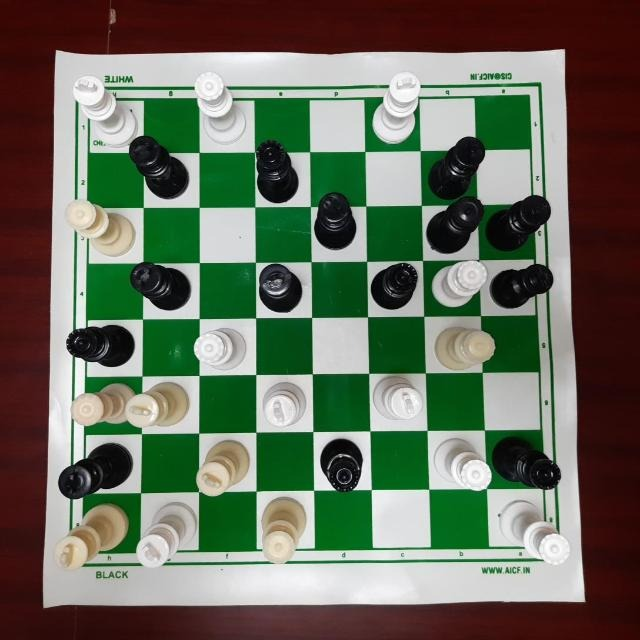black-king: (55, 438, 136, 503), (125, 134, 196, 206), (422, 135, 488, 201), (489, 191, 553, 252), (125, 261, 197, 311), (490, 261, 556, 313), (311, 191, 363, 256), (252, 260, 309, 318)
black-queen: (421, 193, 491, 255), (493, 436, 568, 493), (58, 321, 135, 371), (250, 139, 306, 206), (313, 436, 373, 496), (369, 258, 423, 316)
white-king: (56, 495, 134, 579), (131, 497, 196, 578), (65, 76, 136, 144), (367, 69, 422, 152), (195, 434, 252, 505), (256, 372, 321, 433), (365, 374, 427, 429), (122, 383, 190, 433)
white-queen: (492, 499, 574, 569), (185, 68, 251, 149), (57, 196, 140, 258), (260, 490, 315, 571), (427, 314, 501, 372), (426, 435, 495, 495), (64, 377, 142, 429), (424, 257, 490, 313), (193, 324, 255, 376)
